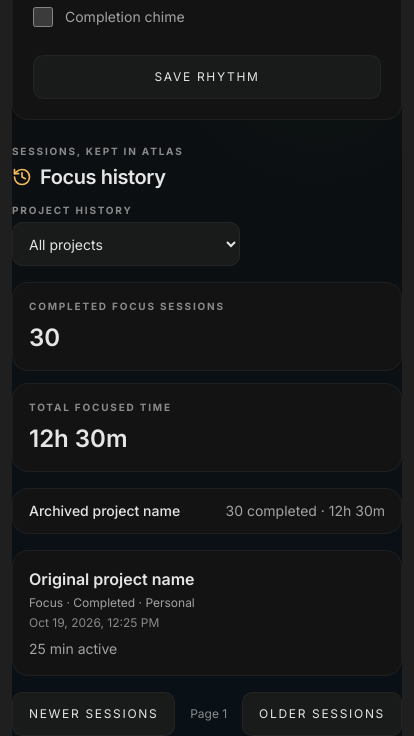
Test case: FocusPage › uses server totals across stable history pages and resets the cursor when filtering an archived project
(page scrolled)
Expected: the text "30" is shown, [29, 323, 60, 352]
Expected: the text "12h 30m" is shown, [29, 424, 128, 453]
Step 1. Click the button "Older sessions" → (322, 714), box [242, 692, 402, 735]
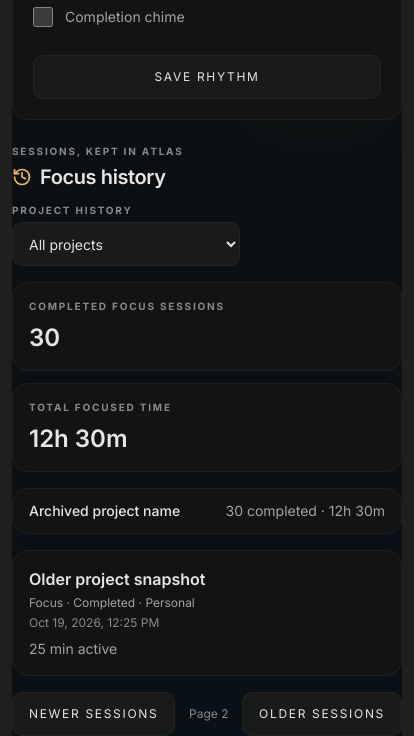
Expected: the text "30" is shown, [29, 323, 60, 352]
Expected: the text "Older project snapshot" is shown, [29, 569, 205, 589]
Step 2. Click the button "Newer sessions" → (94, 714), box [12, 692, 175, 735]
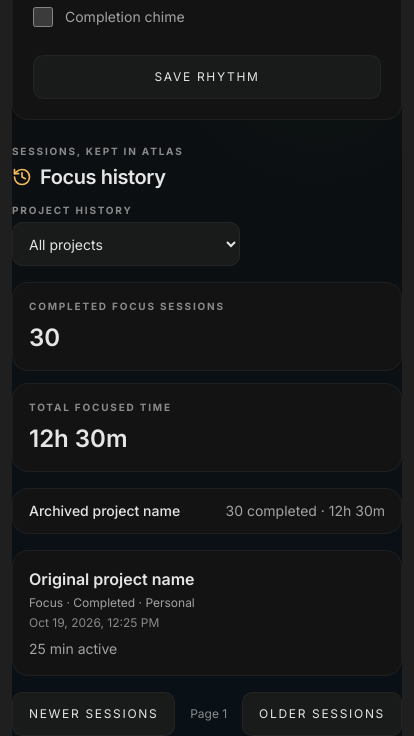
Step 3. Click the button "Older sessions" → (322, 714), box [242, 692, 402, 735]
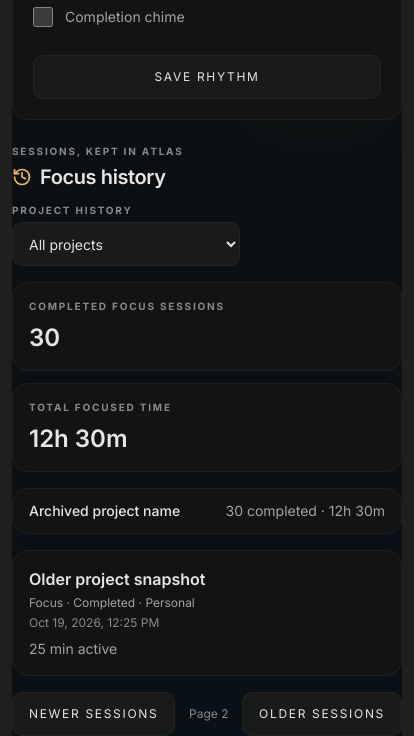
Step 4. Select "Archived project name" in the dropdown named "Filter focus history by project" → (126, 244), box [12, 222, 240, 266]
(page scrolled)
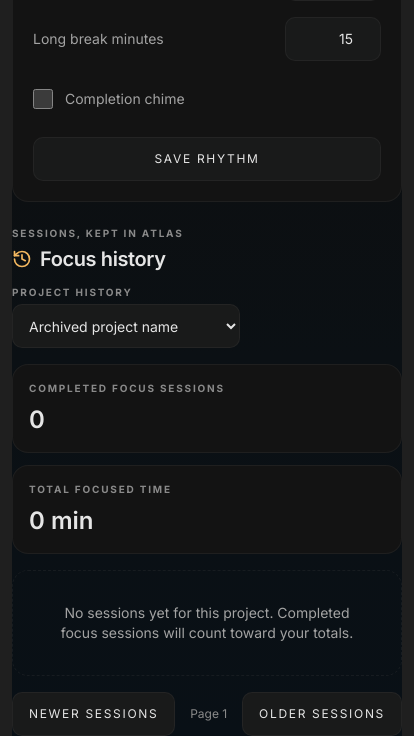
Expected: the text "Page 1" is shown, [190, 706, 227, 722]
Expected: the text "No sessions yet for this project" is shown, [12, 570, 402, 676]
